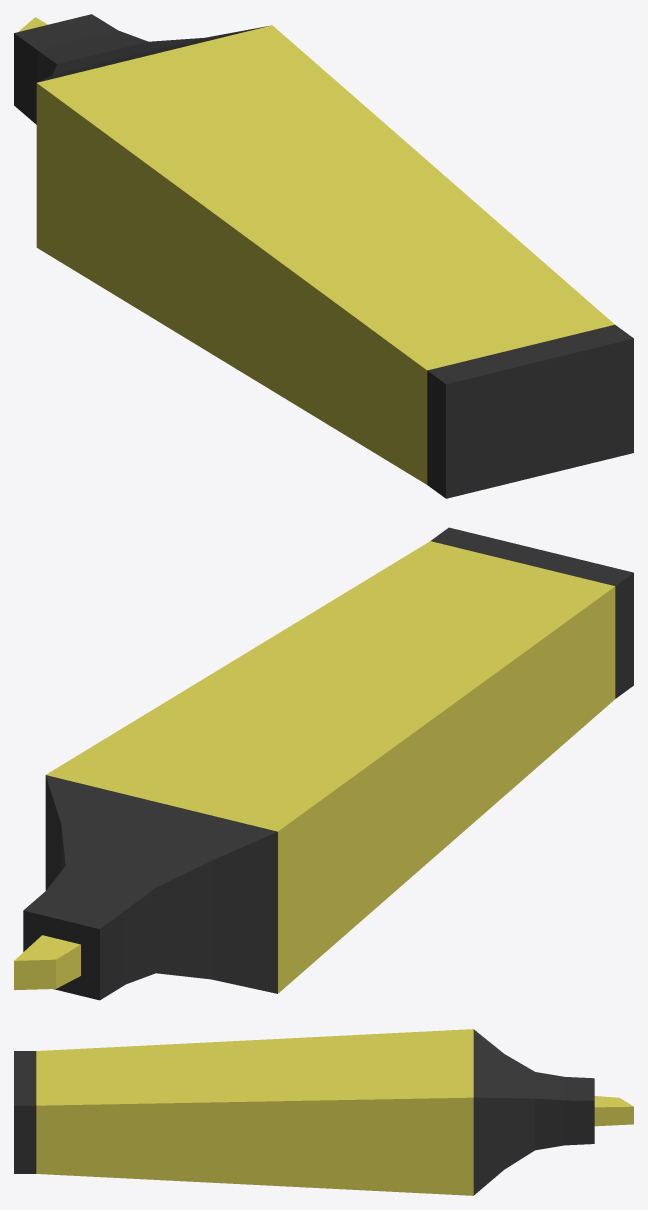
The model's file is Highlighter.fbx.
3 views of the same model, one above another, from view 1: azimuth 30°, elevation 25°; view 2: azimuth 150°, elevation 25°; view 3: azimuth 270°, elevation 25° (orthographic). The views are drawn at different scales.
Parts seen in each view (by area): view 1: Cube; view 2: Cube; view 3: Cube.
Boxes of the visible parts, left/top/right/bottom form: Cube: left=14, top=14, right=633, bottom=498; Cube: left=14, top=527, right=633, bottom=1000; Cube: left=14, top=1029, right=633, bottom=1195.
Bounding box in the file's own units: 67.95 × 45.36 × 260.
